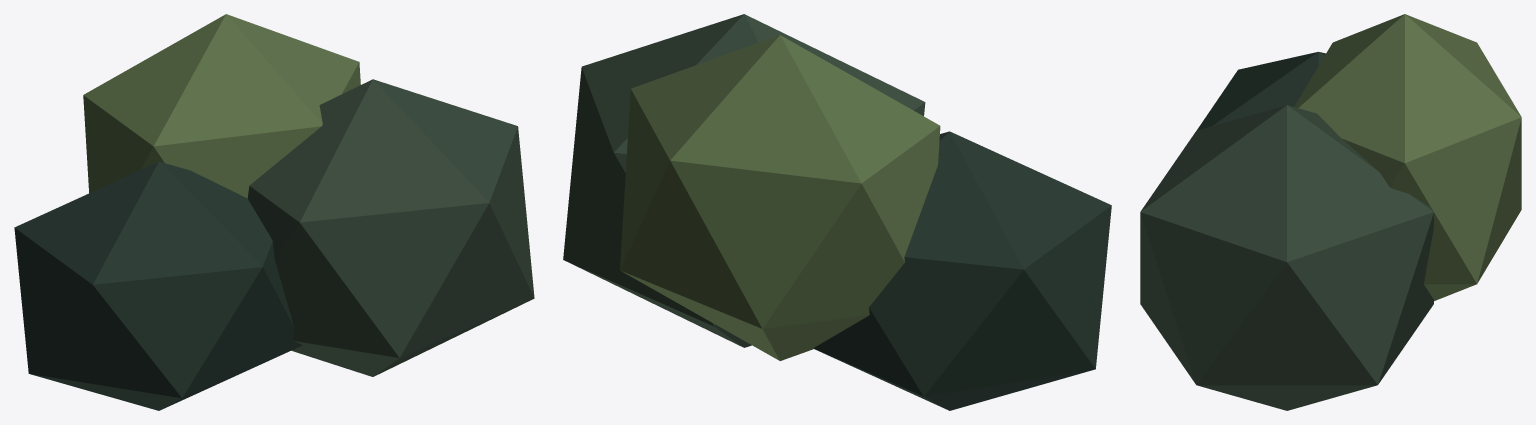
The model's file is bush.glb.
3 renders of one model, left to right at view 1: azimuth 30°, elevation 25°; view 2: azimuth 150°, elevation 25°; view 3: azimuth 270°, elevation 25°, orthographic. The views are drawn at different scales.
Parts seen in each view (by area): view 1: bush clump.001, bush clump, bush clump.002; view 2: bush clump.002, bush clump, bush clump.001; view 3: bush clump.001, bush clump.002, bush clump.
Part boxes in pixels (x1,y1,x2,y2): bush clump.001: (247,79,534,376); bush clump: (14,161,302,410); bush clump.002: (83,14,360,198); bush clump.002: (620,35,940,360); bush clump: (813,131,1111,410); bush clump.001: (563,14,925,347); bush clump.001: (1140,105,1433,410); bush clump.002: (1294,14,1521,300); bush clump: (1197,51,1325,130).
Bounding box in the file's own units: 1.43 × 0.99 × 0.972.
